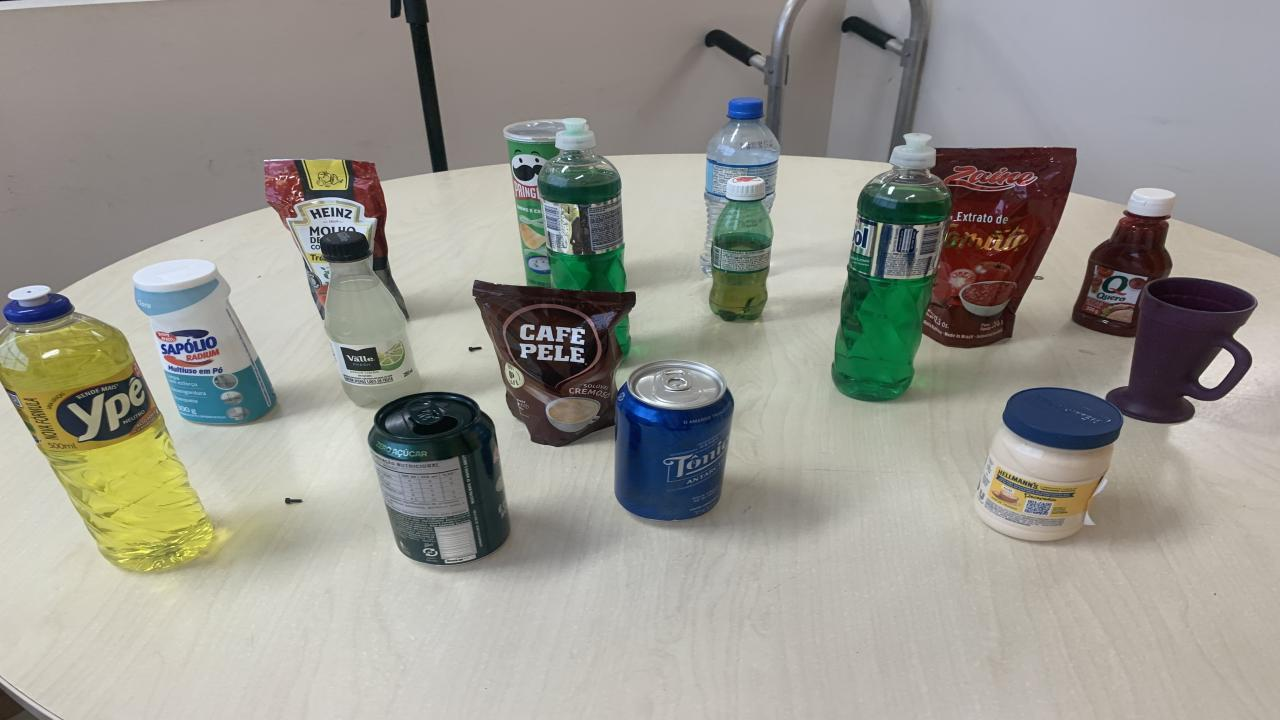Cleaner-Cleanup_Items: (132, 259, 278, 426)
Coffee-Pantry_Items: (472, 281, 635, 446)
Detergent-Cleanup_Items: (0, 287, 212, 570), (832, 133, 952, 399), (538, 118, 625, 292), (615, 317, 630, 356)
Guarana-Drinks: (710, 176, 772, 321)
Guarana_Can-Drinks: (368, 392, 510, 566)
Ketchup-Pantry_Items: (1072, 188, 1175, 336)
Mayonnaise-Pantry_Items: (975, 388, 1122, 542)
Pringles-Snacks: (502, 120, 562, 287)
Soda-Drinks: (320, 231, 420, 407)
Tomato_Sauce-Pantry_Items: (922, 148, 1075, 347), (265, 159, 408, 315)
Tonic-Drinks: (615, 360, 735, 519)
Water_Bottle-Drinks: (700, 98, 780, 274)
